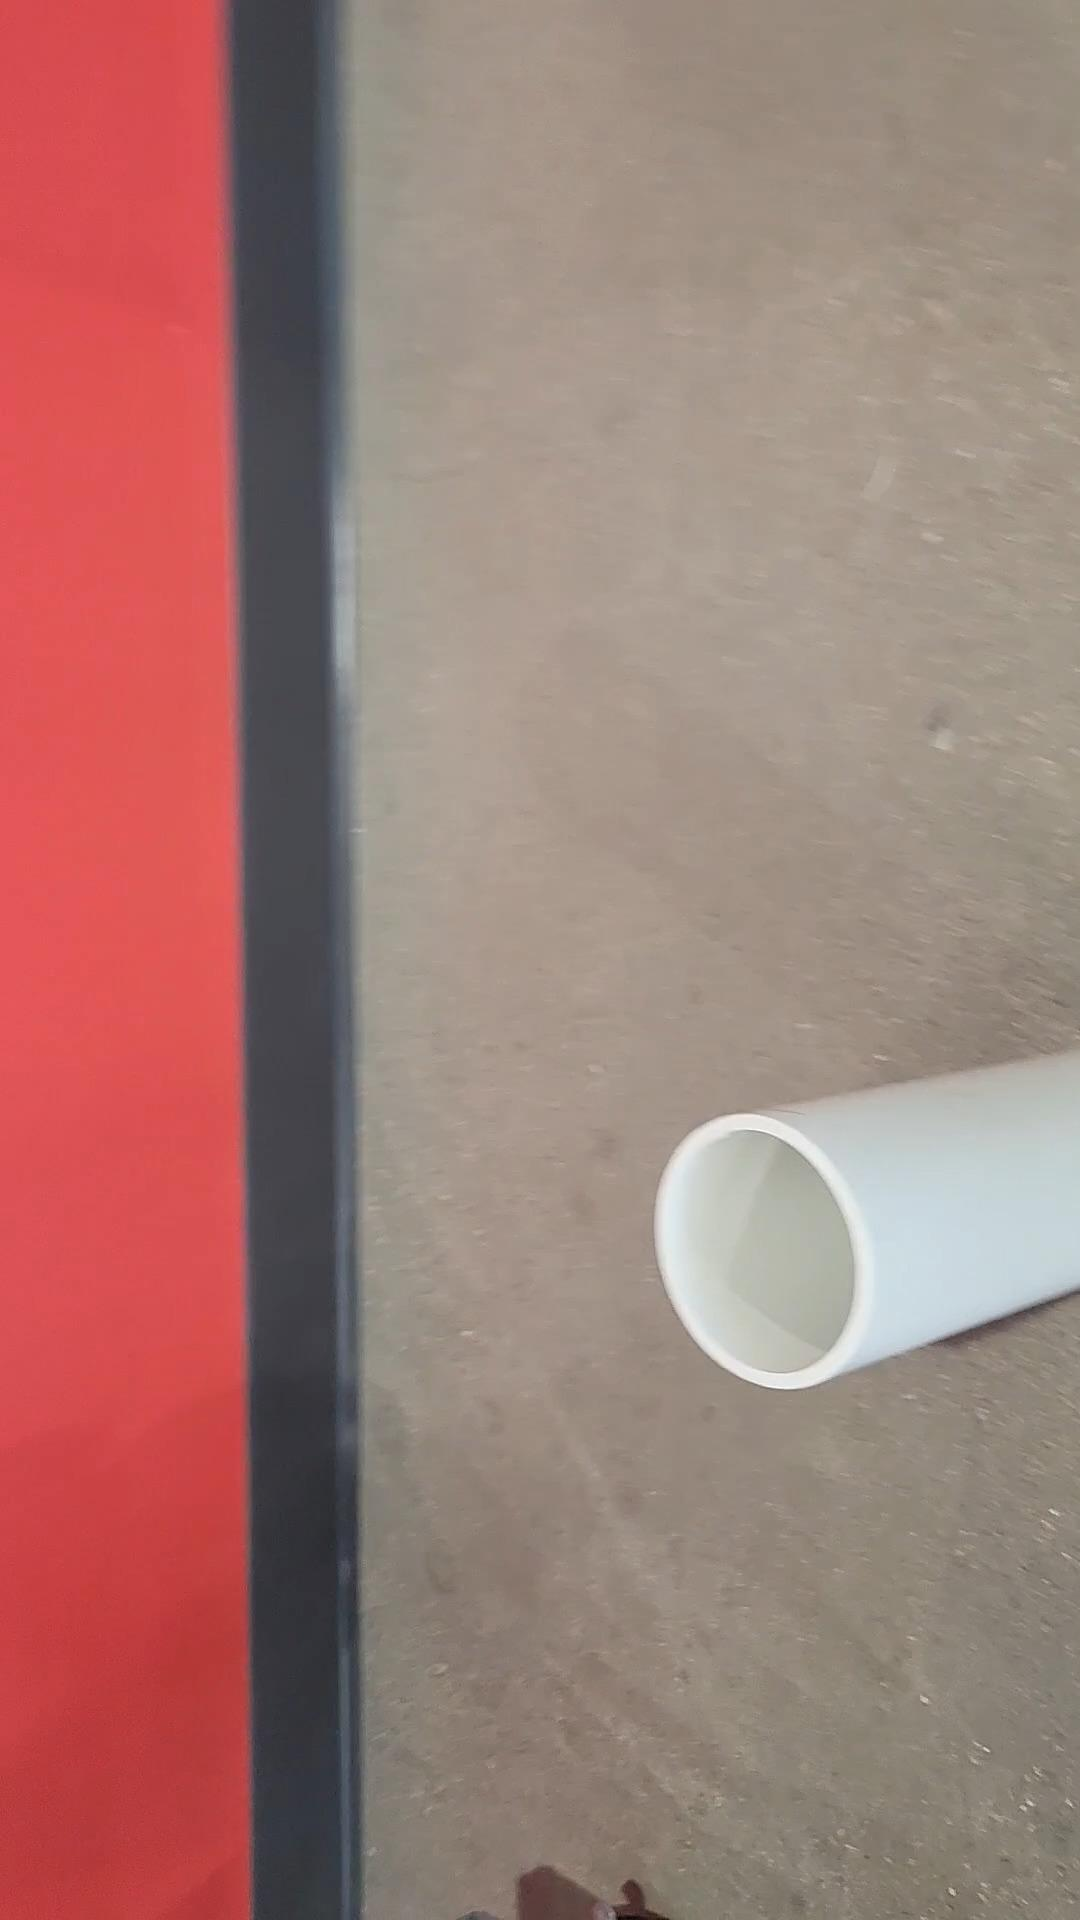coral: (665, 1055, 1080, 1390)
